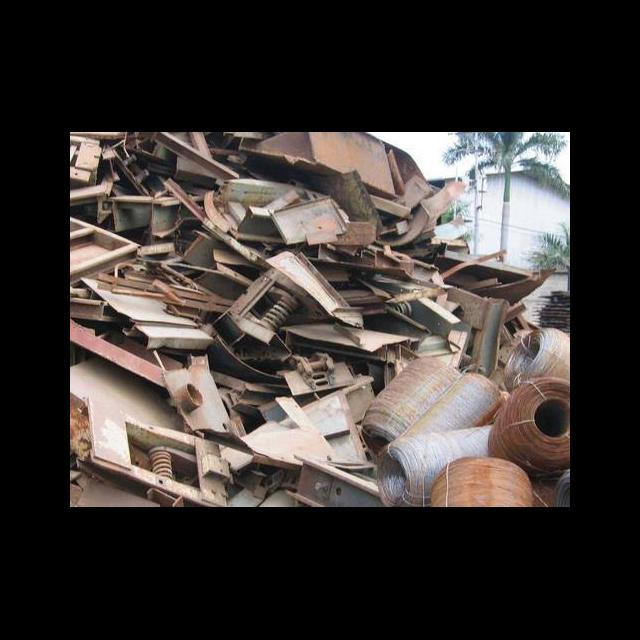metal: (73, 398, 246, 506), (367, 424, 534, 506), (84, 262, 222, 348), (354, 350, 477, 442), (142, 348, 244, 443), (485, 372, 569, 472), (255, 188, 363, 254), (278, 451, 402, 506), (428, 451, 539, 506), (237, 272, 310, 342), (494, 320, 569, 384), (271, 346, 363, 398)
